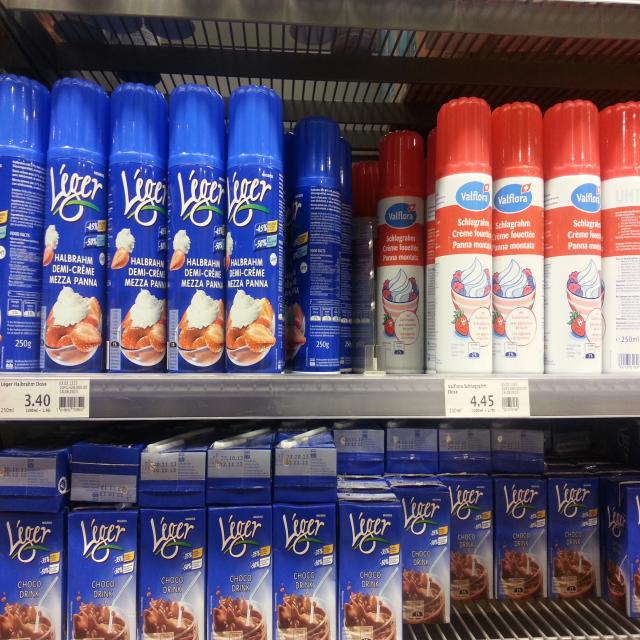Choco: (64, 503, 136, 640), (337, 495, 402, 640), (139, 506, 209, 640), (0, 507, 69, 640), (273, 503, 337, 640), (390, 479, 449, 625), (208, 507, 272, 640), (438, 475, 494, 603), (492, 469, 547, 597), (547, 468, 599, 599), (601, 472, 640, 619)
Creme: (39, 75, 107, 371), (225, 84, 286, 376), (106, 83, 166, 372), (167, 86, 226, 372), (542, 100, 600, 373), (437, 98, 492, 374), (0, 74, 49, 371), (493, 102, 544, 371), (288, 114, 340, 371), (378, 131, 424, 373), (603, 102, 640, 372)
